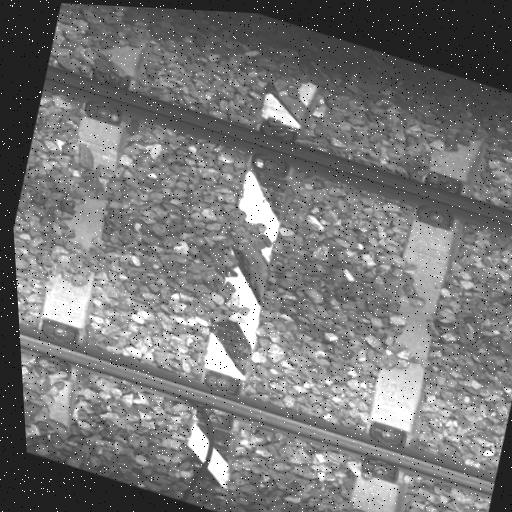clip: (354, 418, 412, 486), (188, 367, 245, 432), (411, 168, 466, 233), (83, 64, 136, 128), (249, 116, 299, 179), (31, 317, 81, 380)
sleeper: (144, 51, 350, 499), (305, 104, 512, 512), (0, 1, 183, 445)
